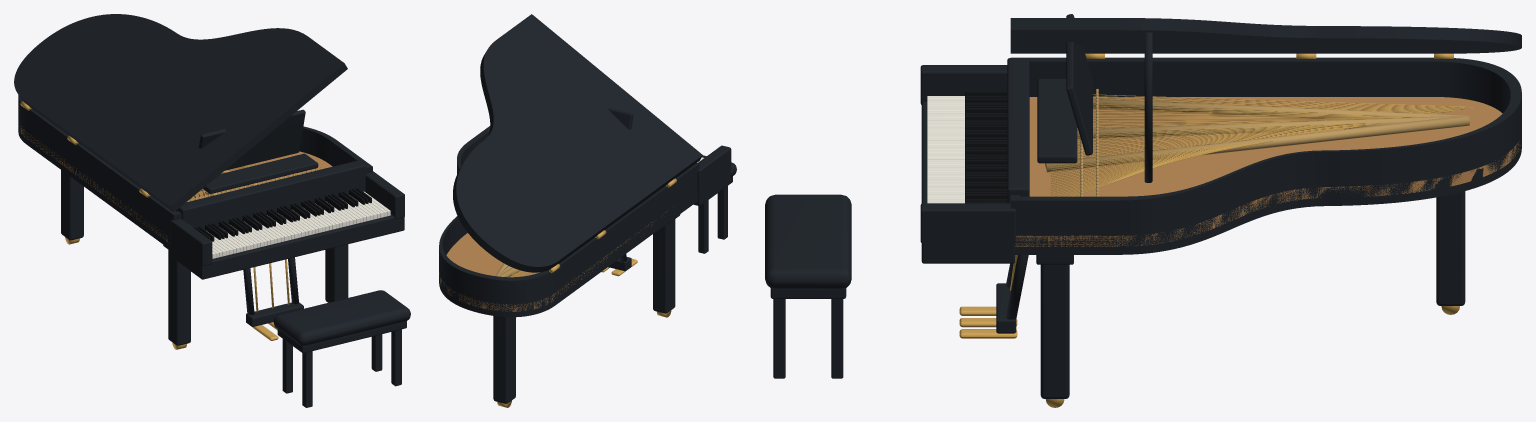
The model's file is grand_piano.glb.
3 views of the same model, side by side, from view 1: azimuth 30°, elevation 25°; view 2: azimuth 150°, elevation 25°; view 3: azimuth 270°, elevation 25° (orthographic). The views are drawn at different scales.
Visible parts, largest first — view 1: Raised grand lid, Continuous curved ebony rim, Fallboard, Bench cushion, Keyboard bed, Music desk, Music desk shelf, Leg, Leg.002, Leg.001, Keyboard cheek, Soundboard (+9 smaller); view 2: Raised grand lid, Continuous curved ebony rim, Soundboard, Leg, Leg.002, Keyboard cheek, Bench leg.001, Bench leg, Keyboard bed, Music desk; view 3: Continuous curved ebony rim, Soundboard, Raised grand lid, Bench cushion, Cast plate brace.002, Leg.001, Keyboard cheek.001, Leg.002, Fallboard, Music desk shelf, Cast plate brace, Cast plate brace.001 (+9 smaller).
Part boxes in pixels (x1,y1,x2,y2): Raised grand lid: (14,14,347,212); Continuous curved ebony rim: (18,95,372,249); Fallboard: (176,160,365,229); Bench cushion: (273,290,410,345); Keyboard bed: (171,214,404,279); Music desk: (198,109,305,170); Music desk shelf: (203,153,318,193); Leg: (168,250,190,345); Leg.002: (61,170,83,240); Leg.001: (325,244,348,302); Keyboard cheek: (170,219,212,266); Soundboard: (20,126,332,243); Raised grand lid: (453,14,702,272); Continuous curved ebony rim: (439,126,699,317); Soundboard: (439,206,673,311); Leg: (653,219,675,313); Leg.002: (493,316,515,403); Keyboard cheek: (697,145,731,192); Bench leg.001: (698,200,708,253); Bench leg: (717,186,727,239); Keyboard bed: (693,170,730,205); Music desk: (607,108,633,129); Continuous curved ebony rim: (1010,57,1521,254); Soundboard: (1015,97,1520,246); Raised grand lid: (1010,18,1521,53); Bench cushion: (765,194,851,288); Cast plate brace.002: (1045,116,1469,172); Leg.001: (1040,264,1069,398); Keyboard cheek.001: (920,203,1016,243); Leg.002: (1436,191,1465,305); Fallboard: (1007,58,1029,203); Music desk shelf: (1037,78,1077,163); Cast plate brace: (1093,98,1468,119); Cast plate brace.001: (1077,116,1465,139).
Size of the model in its own units: 1.56 by 1.89 by 3.4.
